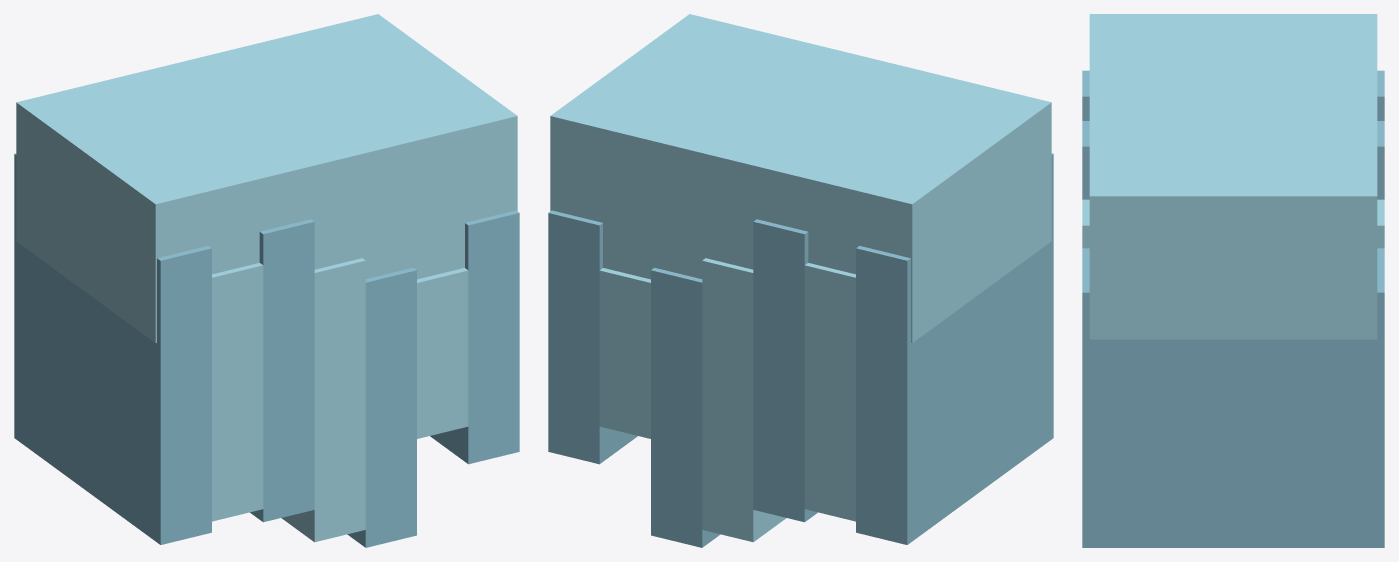
Rendered from fantasma_saia.glb.
3 renders of one model, left to right at view 1: azimuth 30°, elevation 25°; view 2: azimuth 150°, elevation 25°; view 3: azimuth 270°, elevation 25°, orthographic. The views are drawn at different scales.
Parts seen in each view (by area): view 1: fantasma_saia; view 2: fantasma_saia; view 3: fantasma_saia.
Boxes of the visible parts, x1,y1,x2,y2 form: fantasma_saia: [14, 14, 519, 547]; fantasma_saia: [548, 14, 1053, 547]; fantasma_saia: [1082, 14, 1384, 547].
Bounding box in the file's own units: 0.6 × 0.62 × 0.42.
